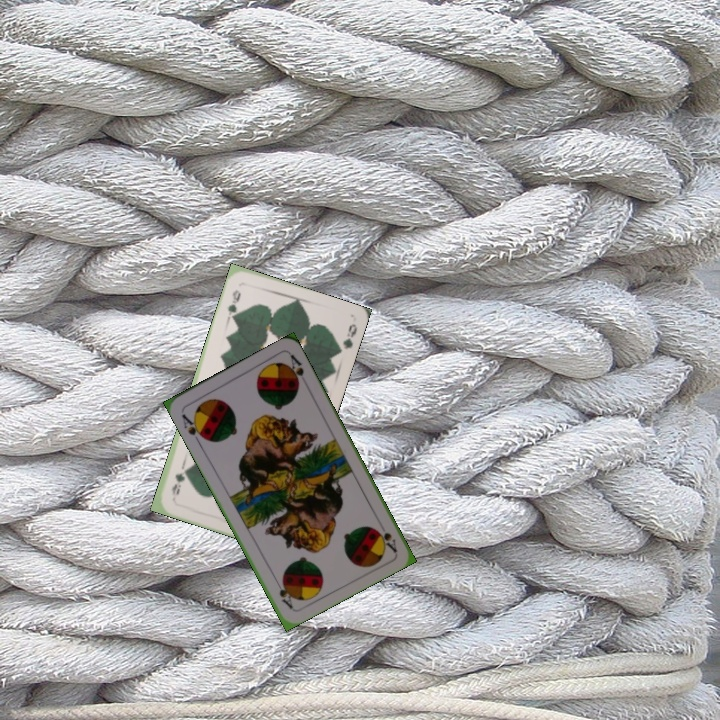G9: (223, 286, 243, 322)
SA: (177, 409, 208, 446), (372, 517, 399, 555)
